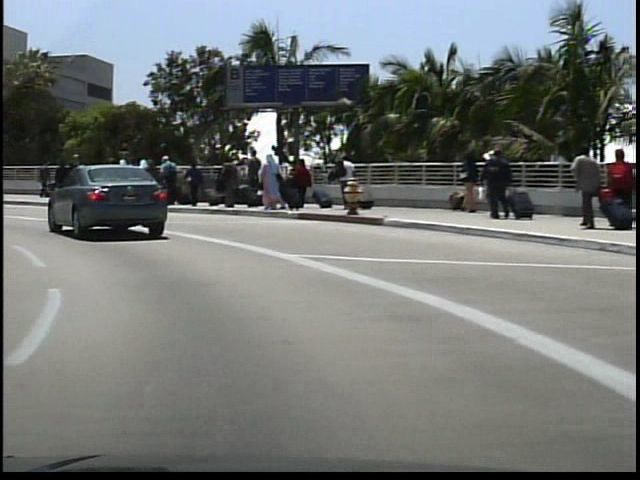person: (567, 145, 601, 230), (600, 145, 632, 227), (476, 146, 508, 219), (49, 153, 77, 211), (332, 151, 357, 207), (57, 152, 82, 205), (33, 159, 52, 200)
